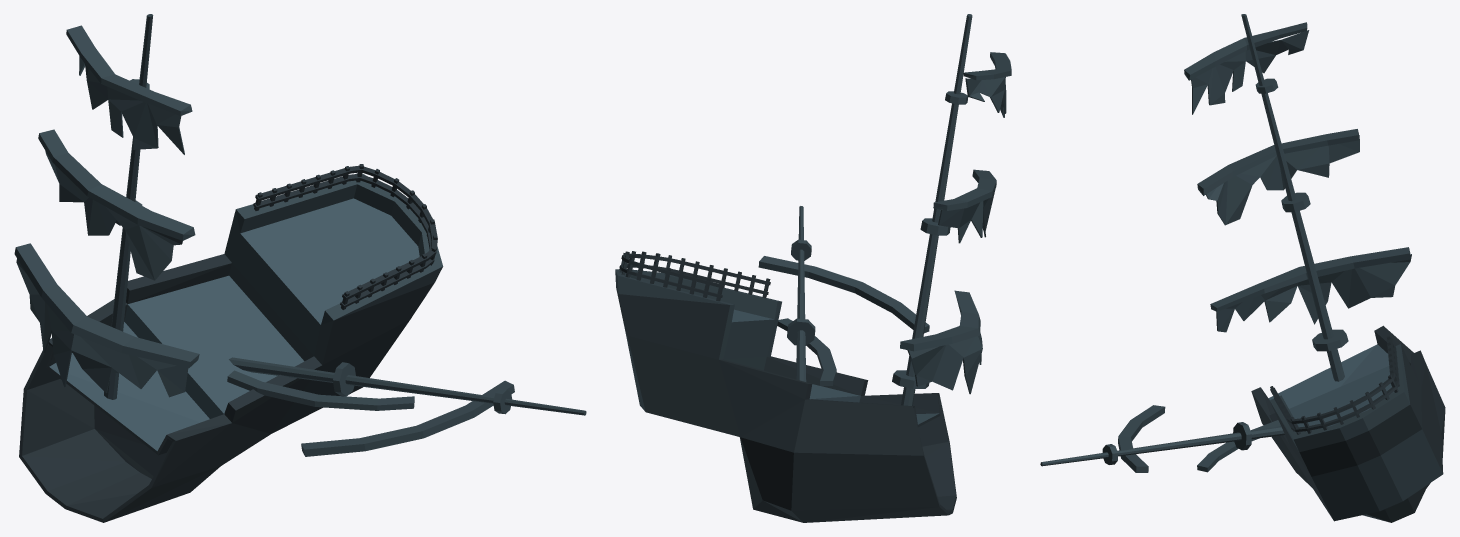
Rendered from Ship_054.glb.
3 renders of one model, left to right at view 1: azimuth 30°, elevation 25°; view 2: azimuth 150°, elevation 25°; view 3: azimuth 270°, elevation 25°, orthographic. The views are drawn at different scales.
Visible parts, largest first — view 1: Ship_054; view 2: Ship_054; view 3: Ship_054.
Part boxes in pixels (bbox=[...]): Ship_054: bbox=[14, 14, 586, 522]; Ship_054: bbox=[615, 14, 1011, 522]; Ship_054: bbox=[1040, 14, 1445, 522].
Size of the model in its own units: 9.21 by 12.42 by 10.02.
Materials: 1 (1 with a texture image).
